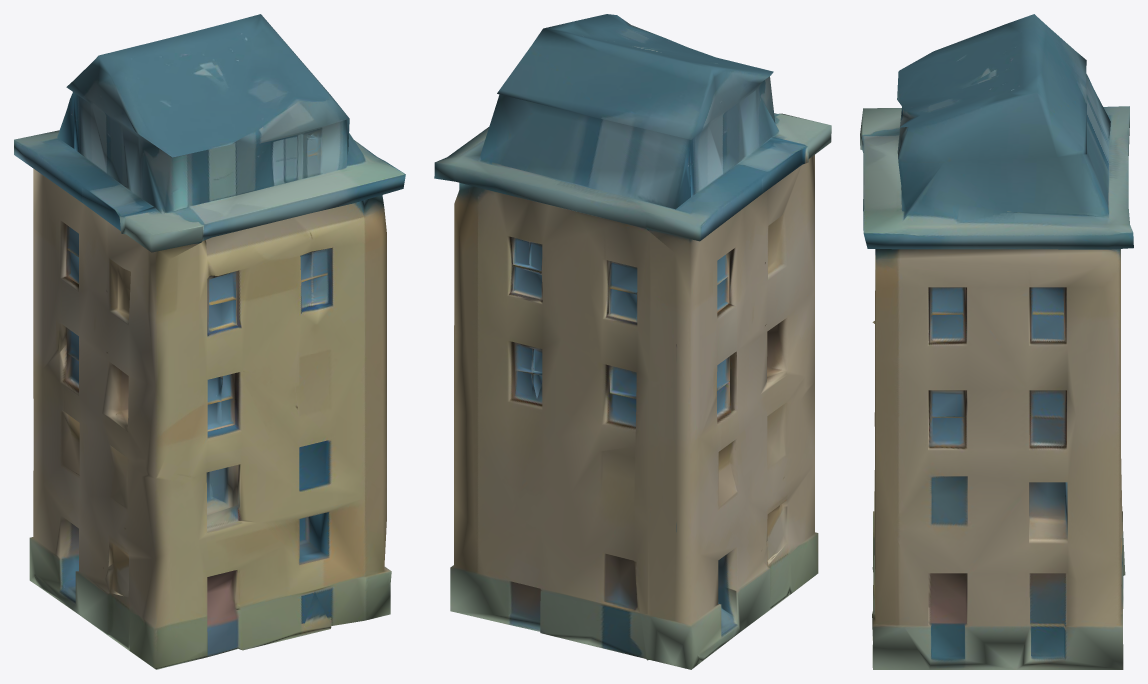
The model's file is bibliotheque.glb.
The picture shows the model from 3 angles, left to right: view 1: azimuth 30°, elevation 25°; view 2: azimuth 150°, elevation 25°; view 3: azimuth 270°, elevation 25°; orthographic projection.
Parts seen in each view (by area): view 1: tripo_node_37100ff2-54f5-41d3-a786-4bf1919f3642; view 2: tripo_node_37100ff2-54f5-41d3-a786-4bf1919f3642; view 3: tripo_node_37100ff2-54f5-41d3-a786-4bf1919f3642.
Boxes of the visible parts, bbox=[...] form: tripo_node_37100ff2-54f5-41d3-a786-4bf1919f3642: bbox=[14, 14, 405, 669]; tripo_node_37100ff2-54f5-41d3-a786-4bf1919f3642: bbox=[434, 14, 831, 669]; tripo_node_37100ff2-54f5-41d3-a786-4bf1919f3642: bbox=[860, 14, 1133, 669].
Size of the model in its own units: 0.4814 by 0.9804 by 0.4397.
1 material, 1 textured.
